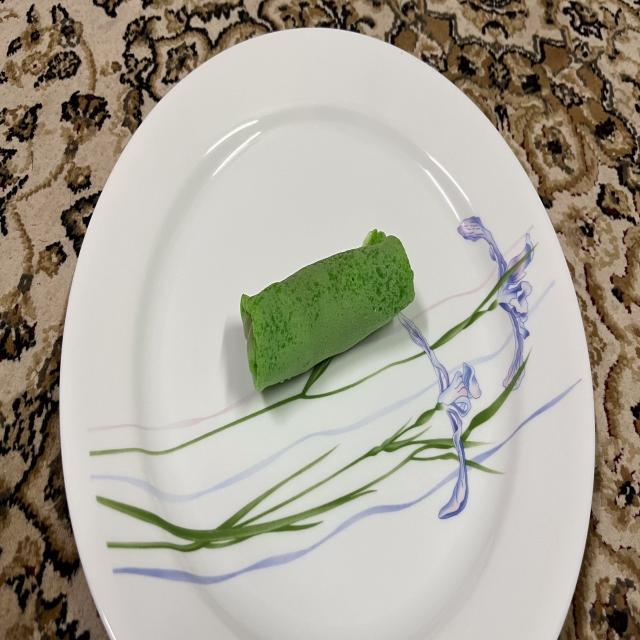Kuih-Ketayap: (240, 231, 415, 391)
